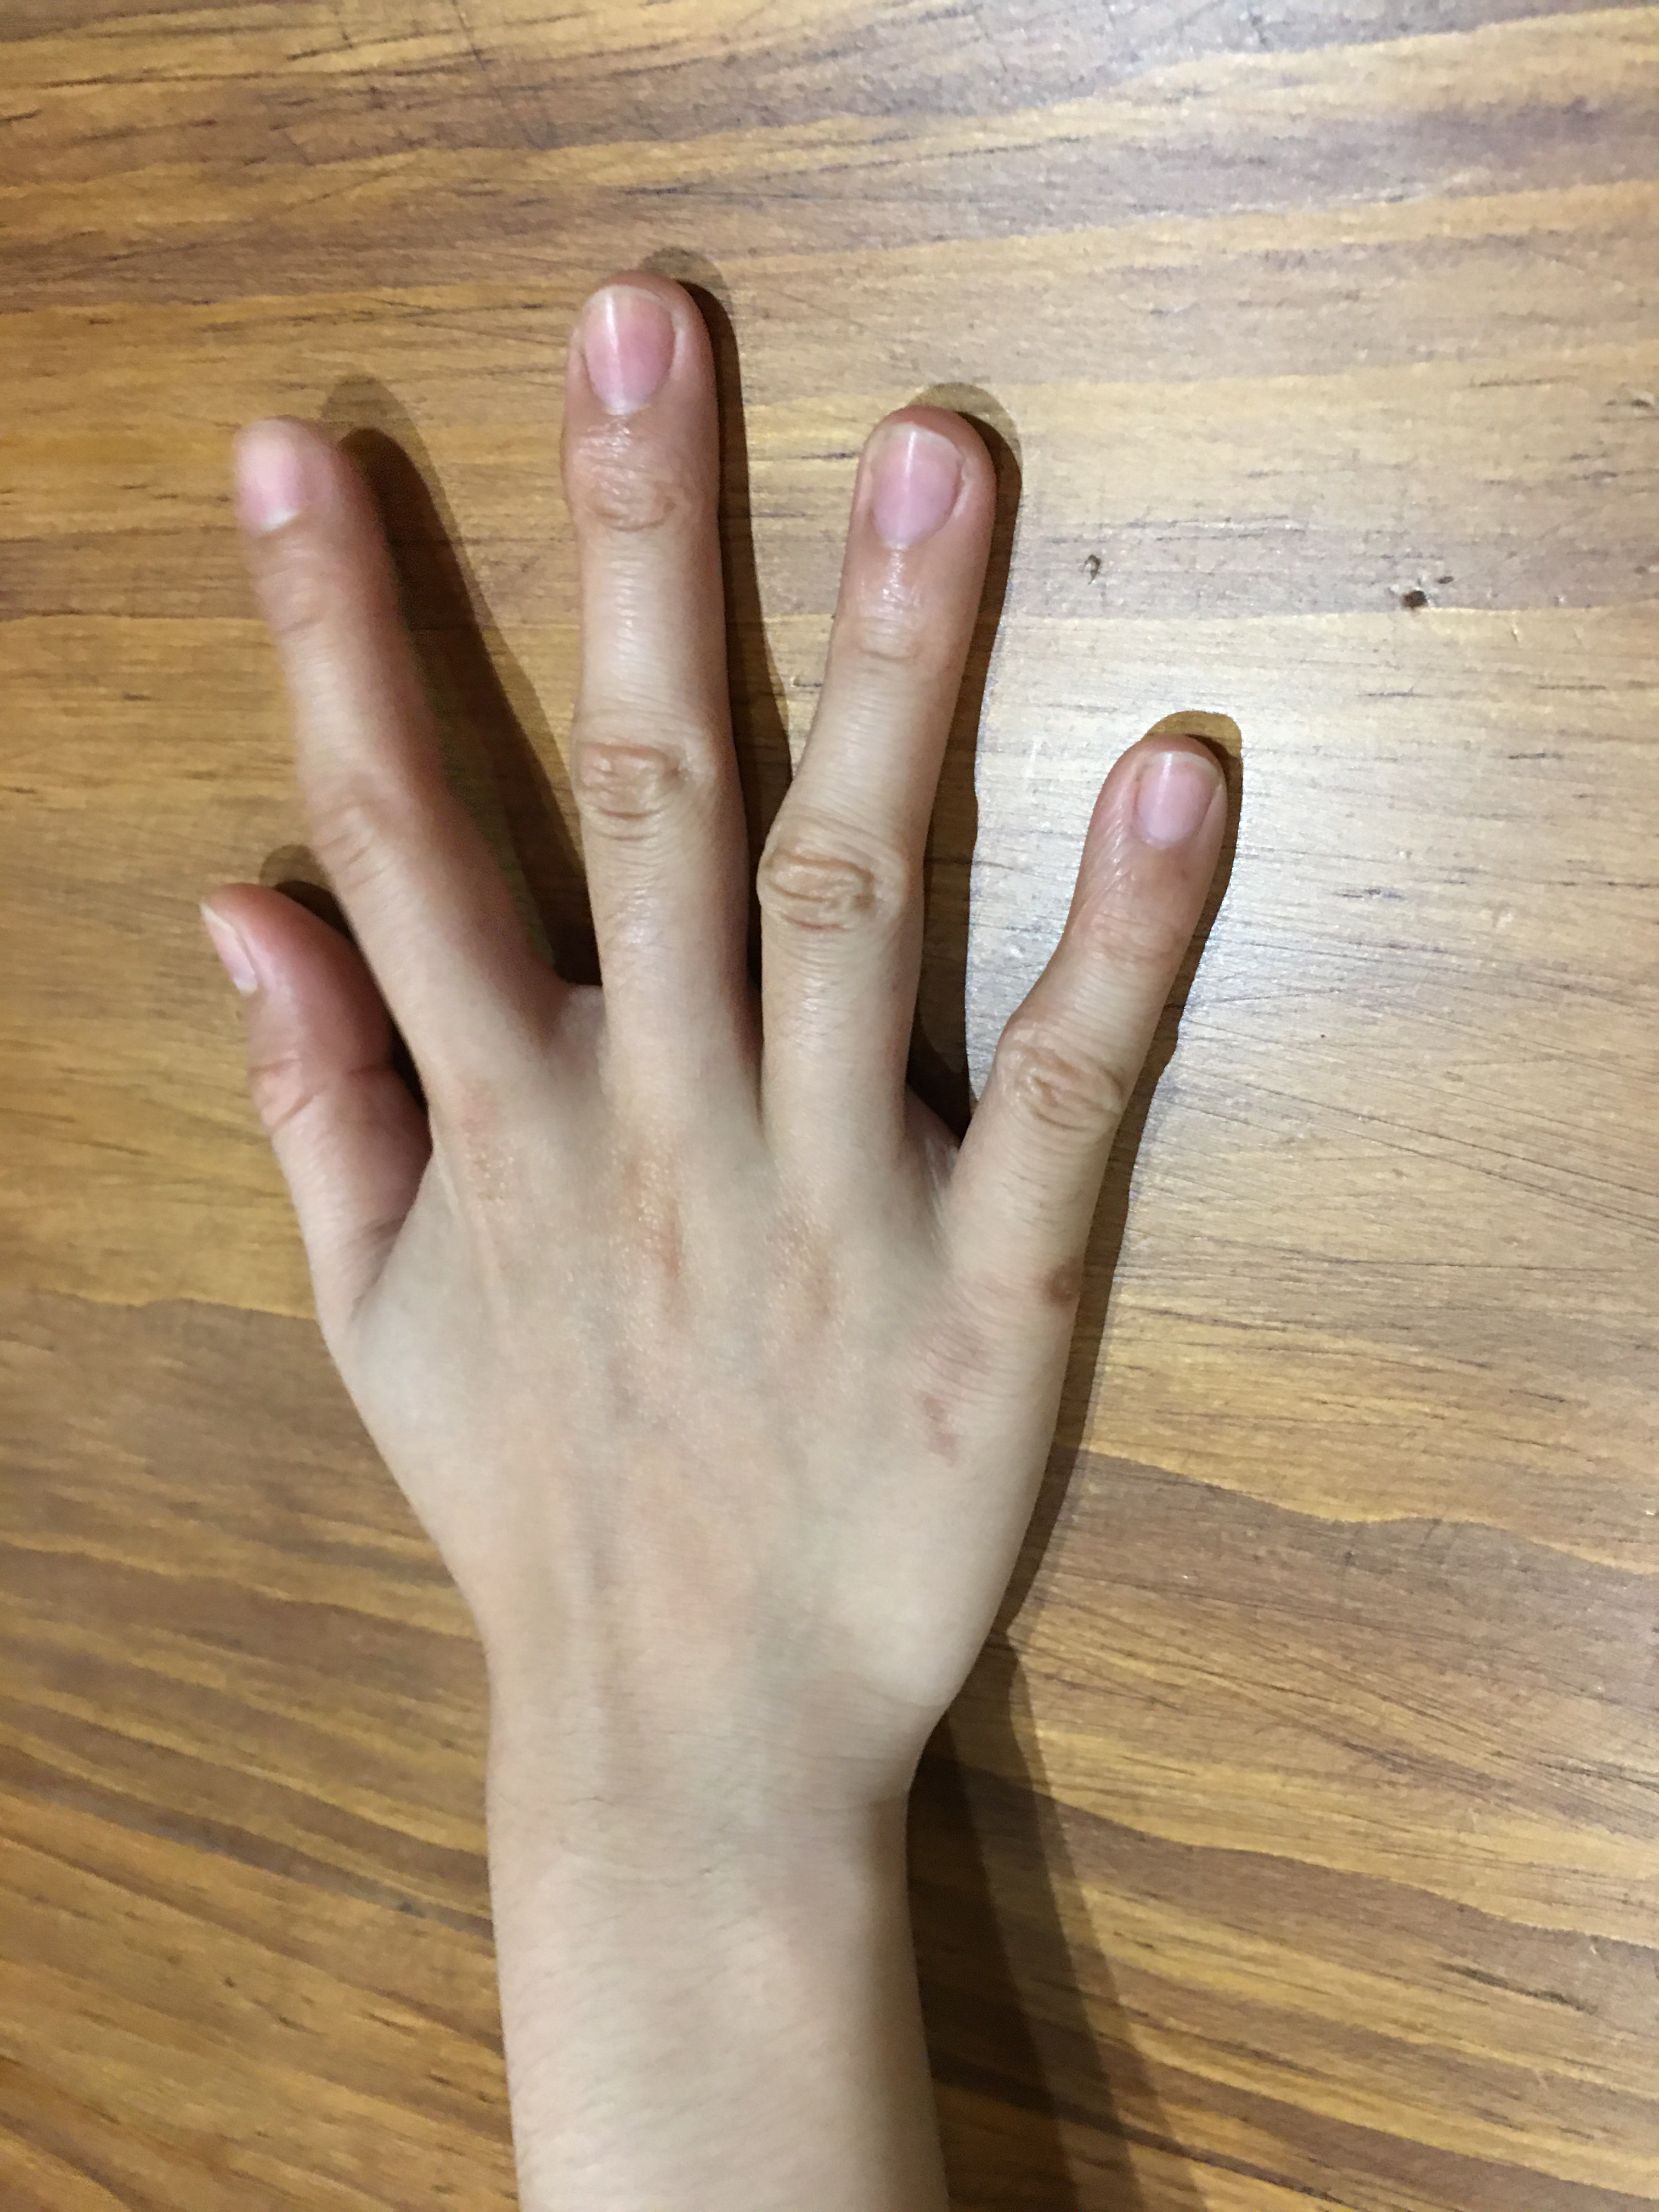nails: (570, 268, 699, 425), (856, 411, 965, 571), (1121, 732, 1236, 864), (218, 404, 322, 549), (192, 885, 277, 1007)
